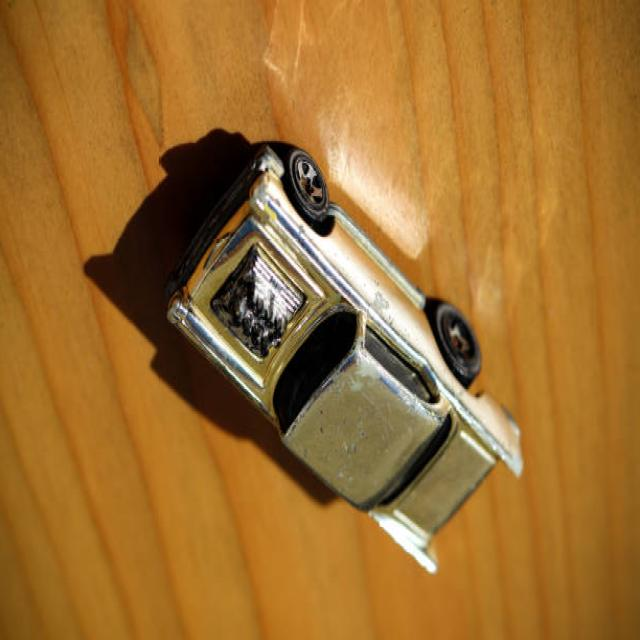Car: (168, 146, 522, 573)
